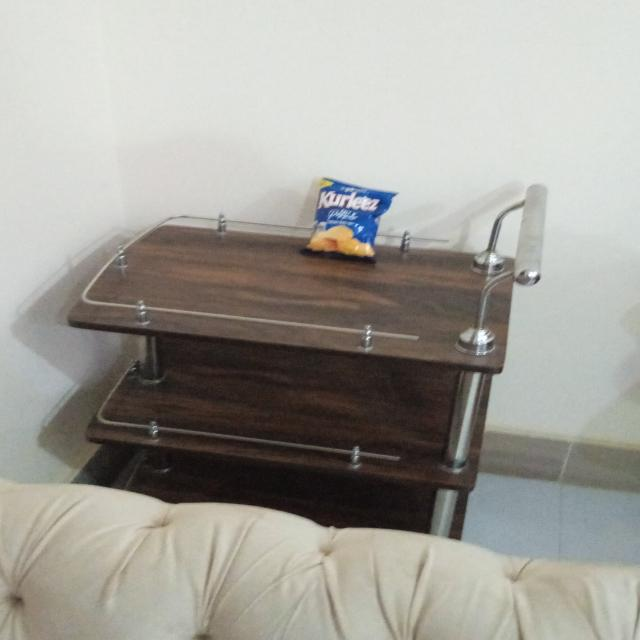Plastic: (310, 178, 390, 256)
